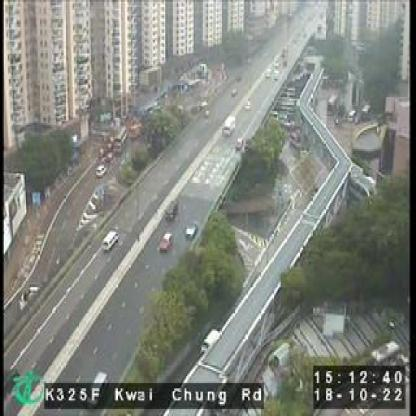Bus: (114, 128, 130, 154)
Car: (84, 370, 110, 408), (101, 231, 118, 254), (165, 198, 179, 223), (161, 232, 175, 254), (184, 223, 196, 240), (95, 163, 106, 176), (235, 136, 244, 150), (245, 99, 252, 109), (230, 86, 237, 96)
Truck: (224, 114, 238, 136)
